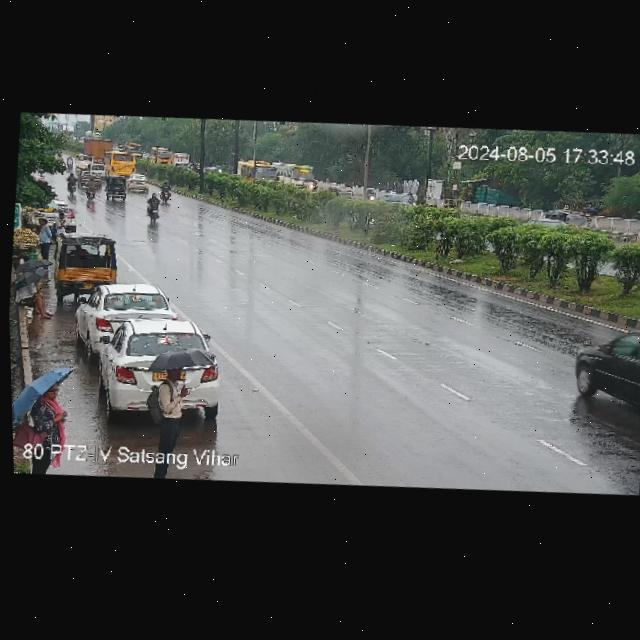bus: (273, 159, 317, 191), (235, 156, 275, 187), (101, 149, 138, 177), (149, 144, 173, 166)
car: (93, 313, 218, 400), (74, 277, 176, 351), (567, 316, 640, 413), (49, 230, 123, 298), (31, 199, 79, 236), (544, 204, 595, 234), (99, 174, 127, 203), (124, 172, 150, 193), (78, 168, 101, 188), (88, 161, 107, 180), (54, 210, 68, 235)
motorcycle: (144, 191, 163, 223), (64, 171, 78, 197), (158, 179, 172, 203), (85, 176, 97, 201), (64, 154, 73, 169)
person: (145, 348, 193, 442), (31, 374, 76, 447), (12, 270, 61, 326), (32, 215, 54, 262)
truck: (82, 136, 112, 163), (74, 154, 89, 168)
